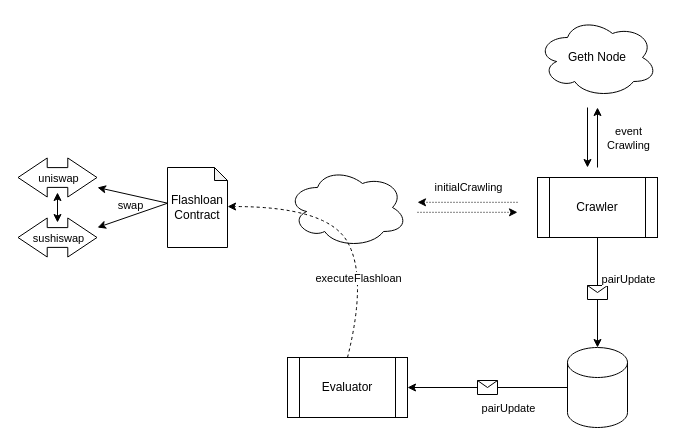
This 675x445 diagram has some shape labels left out. The box of each missing label's shape, as (x1, y1, x2, y2) in pixels:
Infura: (286, 166, 408, 248)
Kafka: (566, 346, 628, 428)
